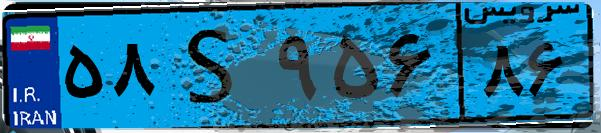5: (330, 28, 385, 110), (57, 26, 110, 100)
6: (385, 28, 445, 110), (525, 38, 570, 115)
8: (475, 38, 525, 113), (110, 28, 158, 98)
9: (270, 28, 330, 110)
S: (158, 12, 270, 120)
